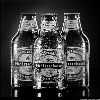beer: (33, 13, 70, 96)
